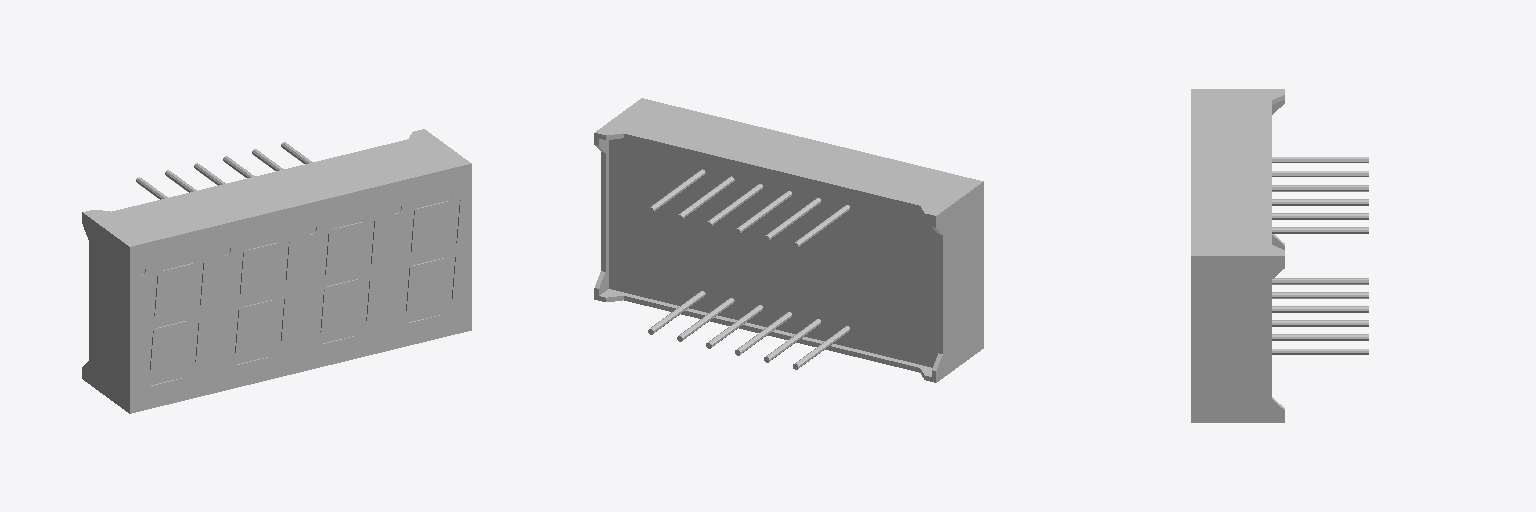
The model's file is 4Digit_7Segment_LED_Display v8.obj.
3 renders of one model, left to right at view 1: azimuth 30°, elevation 25°; view 2: azimuth 150°, elevation 25°; view 3: azimuth 270°, elevation 25°, orthographic.
Parts seen in each view (by area): view 1: Solid1; view 2: Solid1; view 3: Solid1.
Boxes of the visible parts, <box> form: Solid1: <box>82,129,471,413</box>; Solid1: <box>594,98,983,382</box>; Solid1: <box>1191,89,1368,422</box>.
Bounding box in the file's own units: 30 × 14 × 13.6.